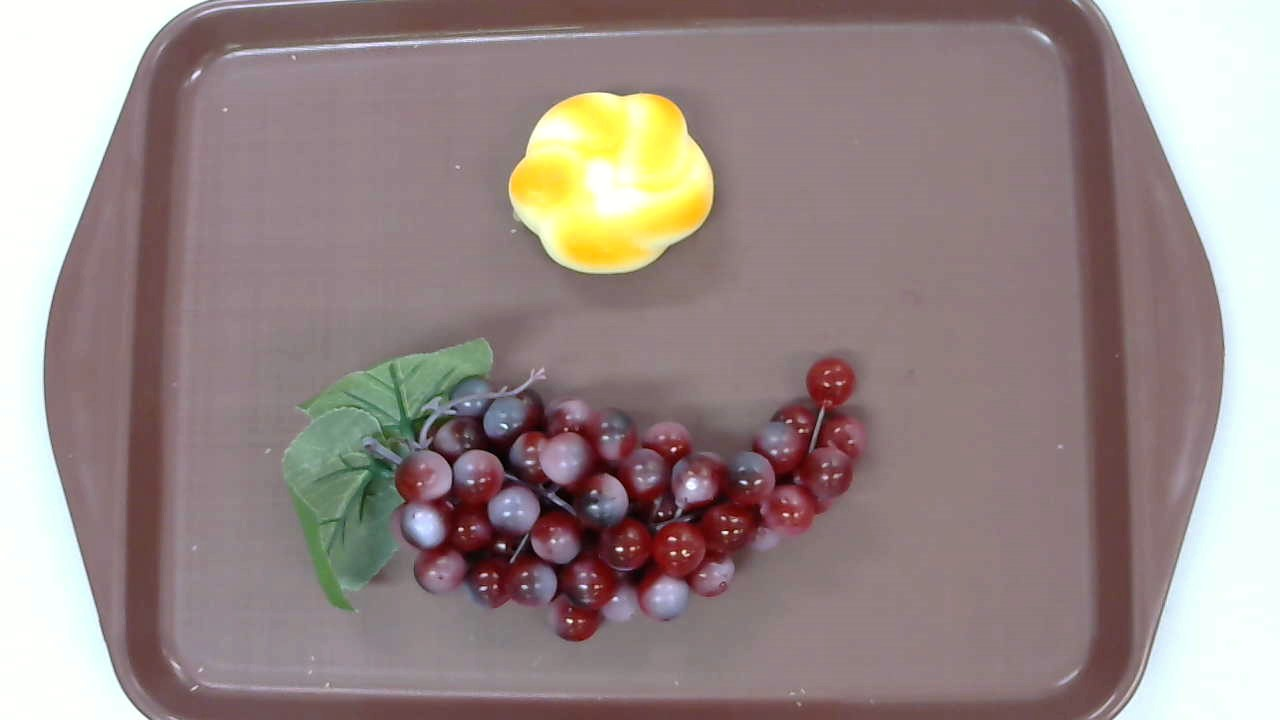grape: (281, 336, 867, 644)
twist bread: (509, 91, 715, 275)
